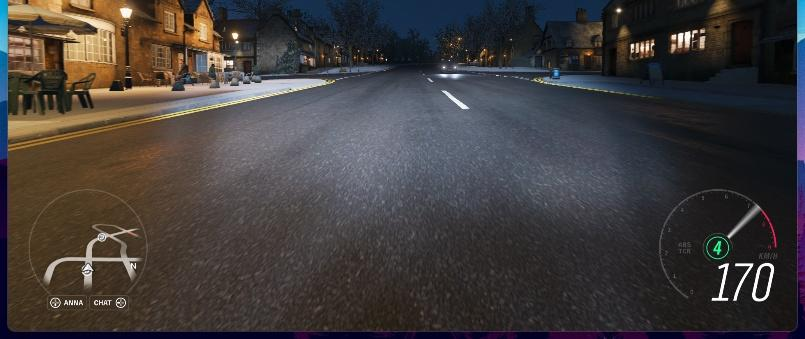House: (8, 0, 224, 90), (600, 0, 797, 84), (213, 6, 341, 75), (526, 7, 603, 71)
Tree: (323, 0, 384, 70), (433, 22, 463, 62)
